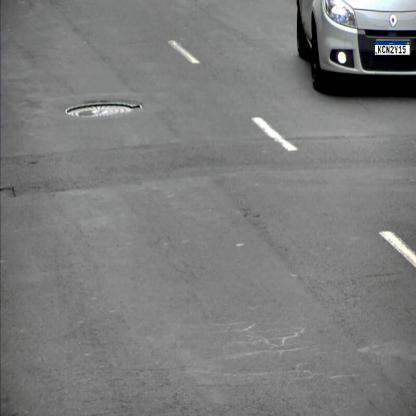PlacaM: (375, 41, 410, 55)
